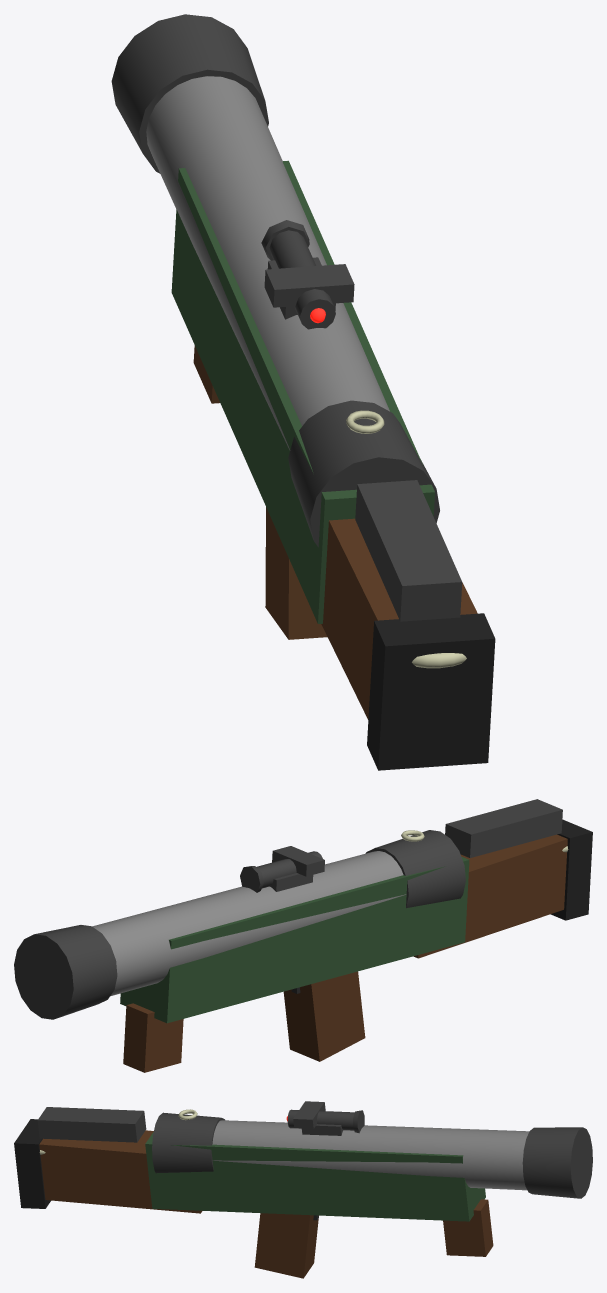
File: rocket_launcher.glb
3 views of the same model, one above another, from view 1: azimuth 30°, elevation 25°; view 2: azimuth 150°, elevation 25°; view 3: azimuth 270°, elevation 25° (orthographic). The views are drawn at different scales.
Size of the model in its own units: 0.4578 by 0.3837 by 1.13.
